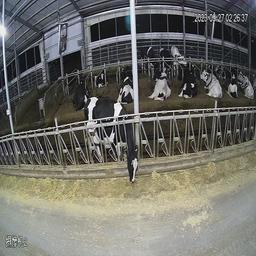cow: (80, 90, 142, 189), (177, 64, 208, 110), (142, 65, 174, 106), (201, 63, 228, 109), (118, 64, 137, 106), (222, 63, 241, 102), (70, 77, 91, 112), (138, 38, 158, 67), (239, 64, 254, 101), (92, 61, 110, 90), (171, 43, 191, 69), (158, 41, 177, 67)
